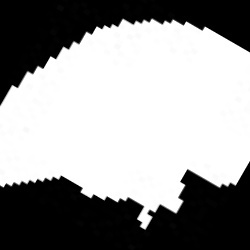spot: (1, 19, 248, 232)
